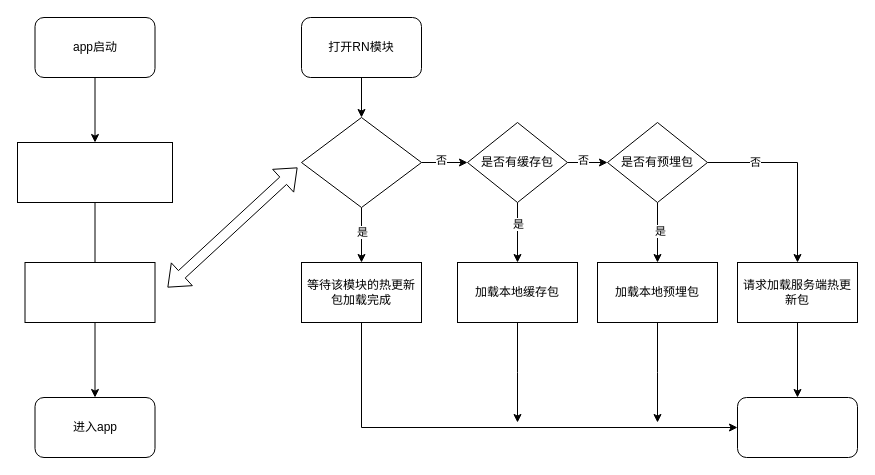
This 875x475 diagram has some shape labels left out. The shapes that lost their labels are listed below. From the top down, each one's centre as x and y in pixels, then its label:
point 94,172: 同步请求内置RN包，及app本地已加载过的RN包信息
point 361,162: 是否有任务正在网络加载该模块热更新包
point 89,292: 异步加载需要更新的RN包
point 797,427: 进入RN模块
